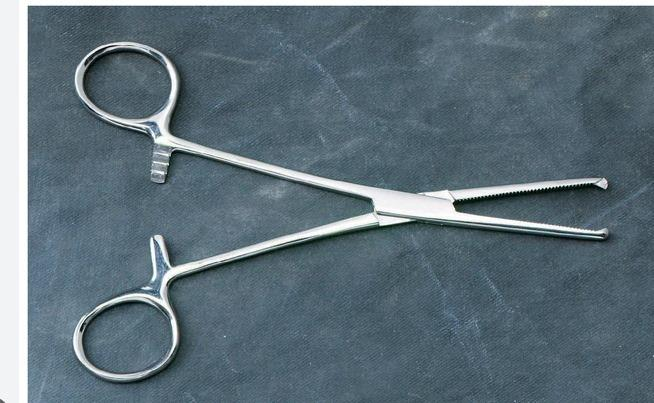Kocher Forceps: (62, 38, 616, 382)
